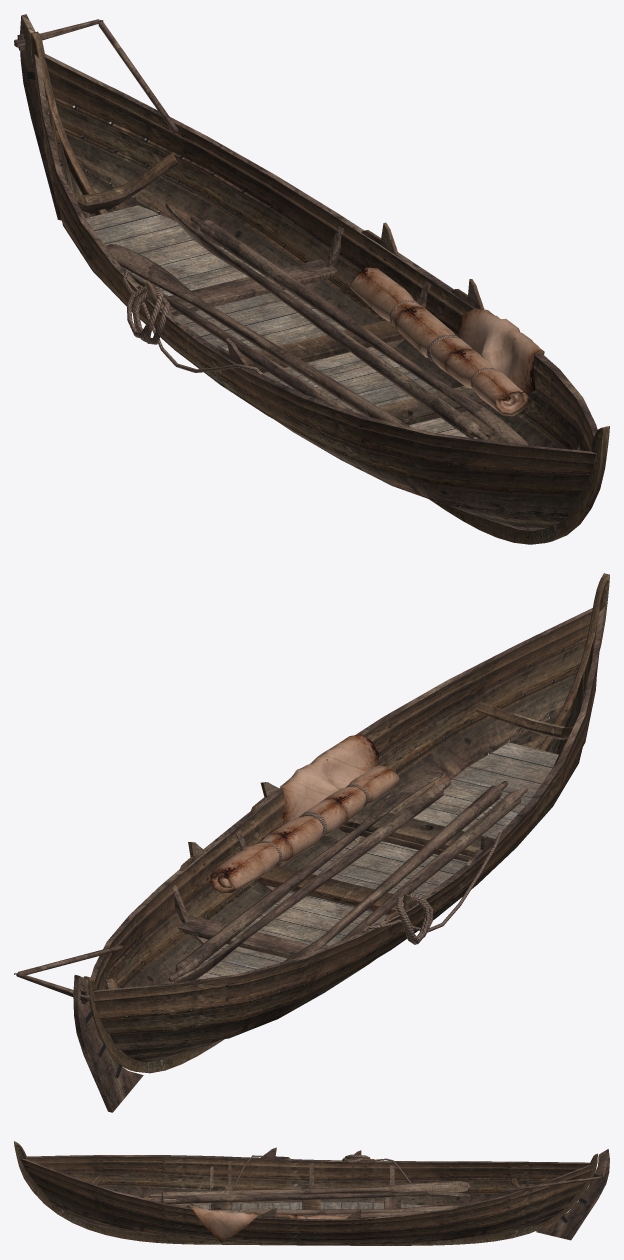
File: Oselvar.fbx
The picture shows the model from 3 angles, top to bottom: view 1: azimuth 30°, elevation 25°; view 2: azimuth 150°, elevation 25°; view 3: azimuth 270°, elevation 25°; orthographic projection. The views are drawn at different scales.
Parts seen in each view (by area): view 1: Oselvar1; view 2: Oselvar1; view 3: Oselvar1.
Part boxes in pixels (left/top/right/bottom): Oselvar1: left=14, top=14, right=609, bottom=544; Oselvar1: left=14, top=573, right=609, bottom=1112; Oselvar1: left=14, top=1141, right=609, bottom=1245.
Size of the model in its own units: 210 by 155 by 811.
